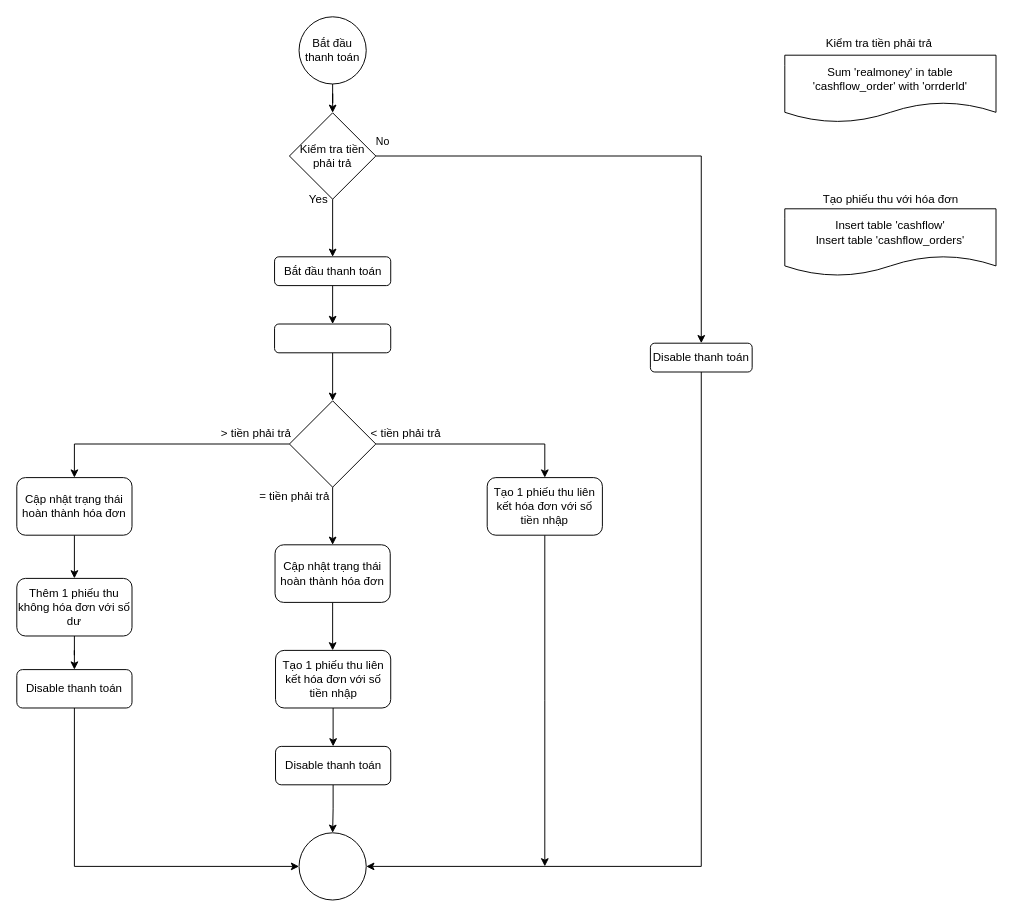
The diagram is 1013 pixels wide and 917 high, and some of its shapes have lost their labels. Here are the shapes that lost their labels. From the top down, the centre of each, then its label:
point 332,338: Nhập số tiền
point 332,443: Kiểm tra tiền nhập
point 332,866: Kết thúc
